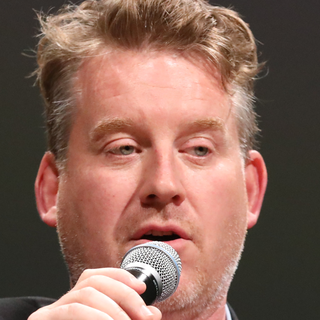eye: (98, 134, 145, 164), (175, 136, 217, 167)
